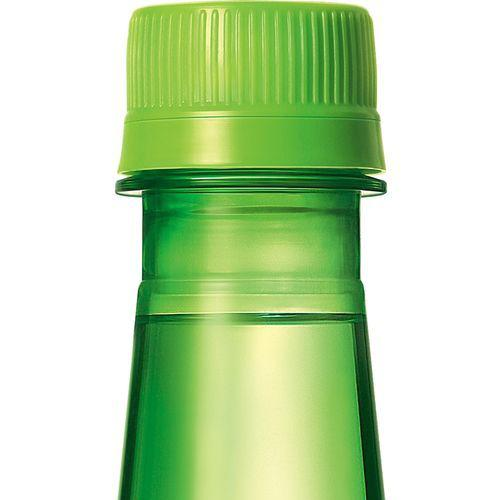soju: (115, 3, 395, 499)
